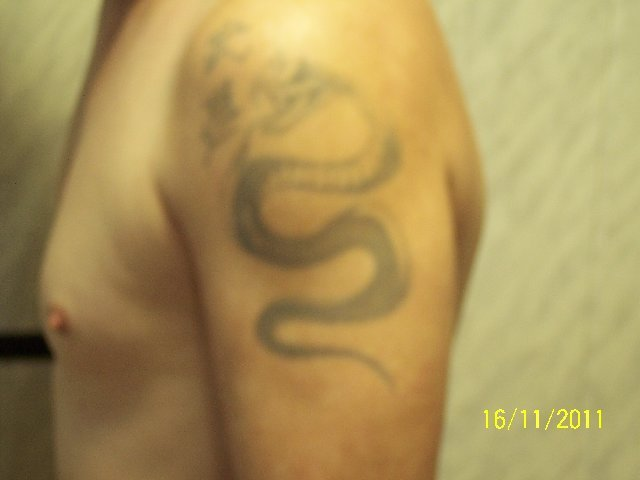tatu7_zmeya: (182, 25, 433, 404)
